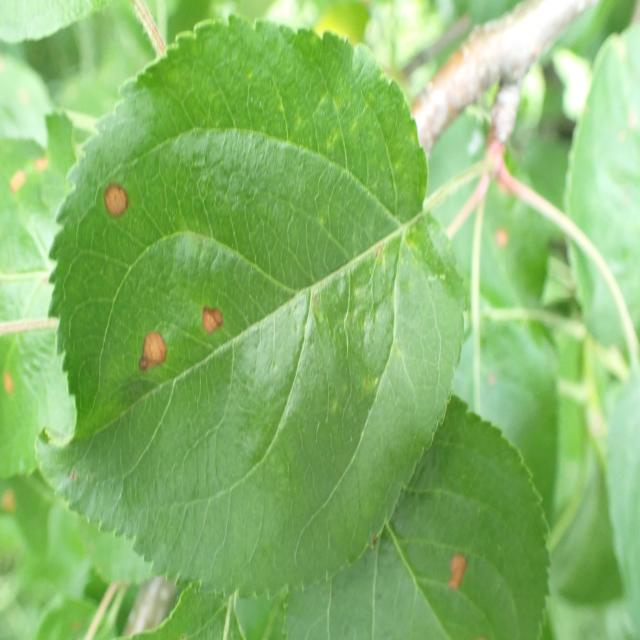Black Rot: (92, 151, 150, 256), (128, 304, 178, 398), (196, 282, 233, 367), (439, 535, 478, 604)
